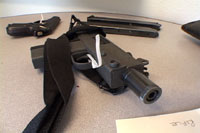pistol: (3, 9, 60, 40)
rifle: (63, 23, 163, 114)
